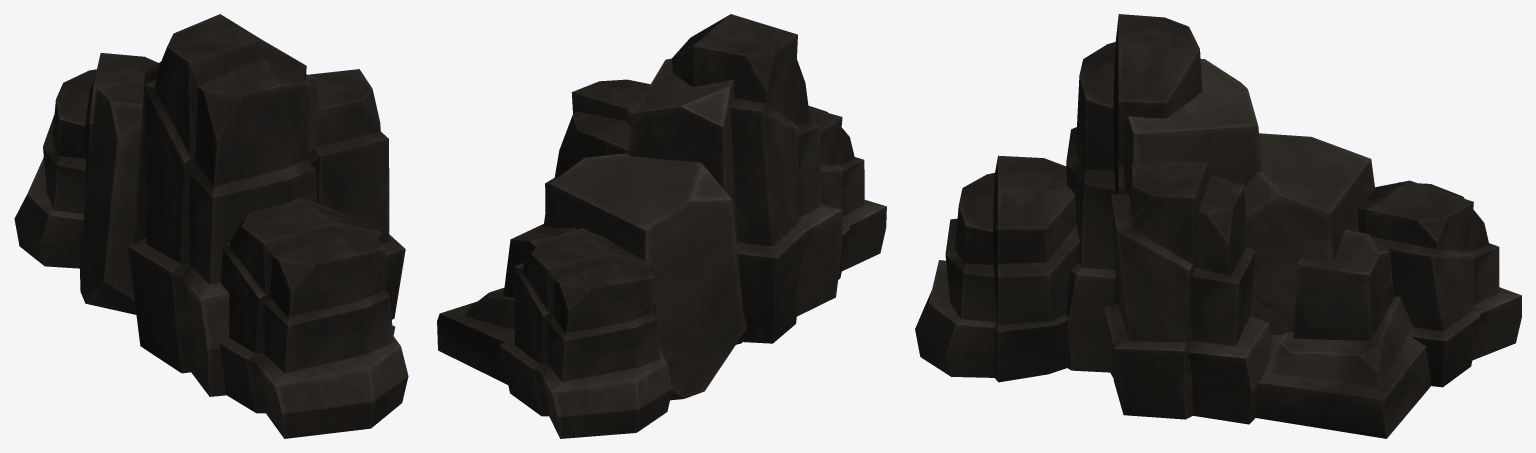
File: Rock5.FBX
3 views of the same model, side by side, from view 1: azimuth 30°, elevation 25°; view 2: azimuth 150°, elevation 25°; view 3: azimuth 270°, elevation 25° (orthographic). The views are drawn at different scales.
Visible parts, largest first — view 1: Stone011; view 2: Stone011; view 3: Stone011.
Part boxes in pixels (x1,y1,x2,y2): Stone011: (14, 14, 408, 438); Stone011: (437, 14, 886, 438); Stone011: (915, 14, 1521, 438).
Bounding box in the file's own units: 7.41 × 8.2 × 14.28.
